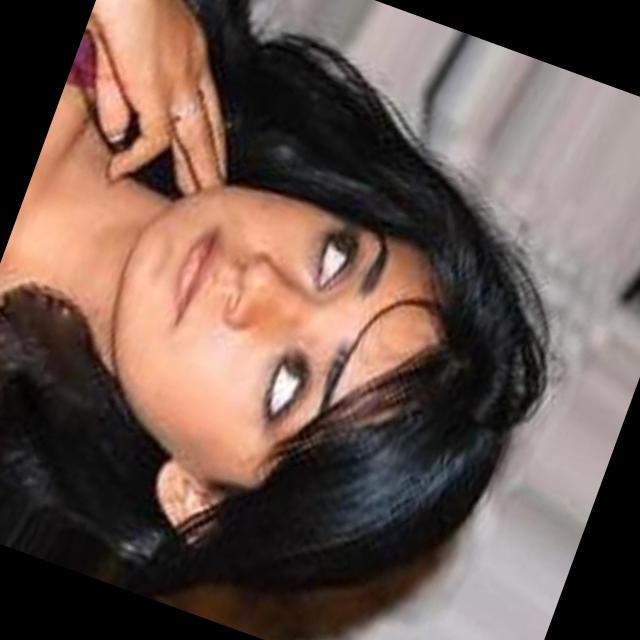bareface: (33, 75, 579, 622)
